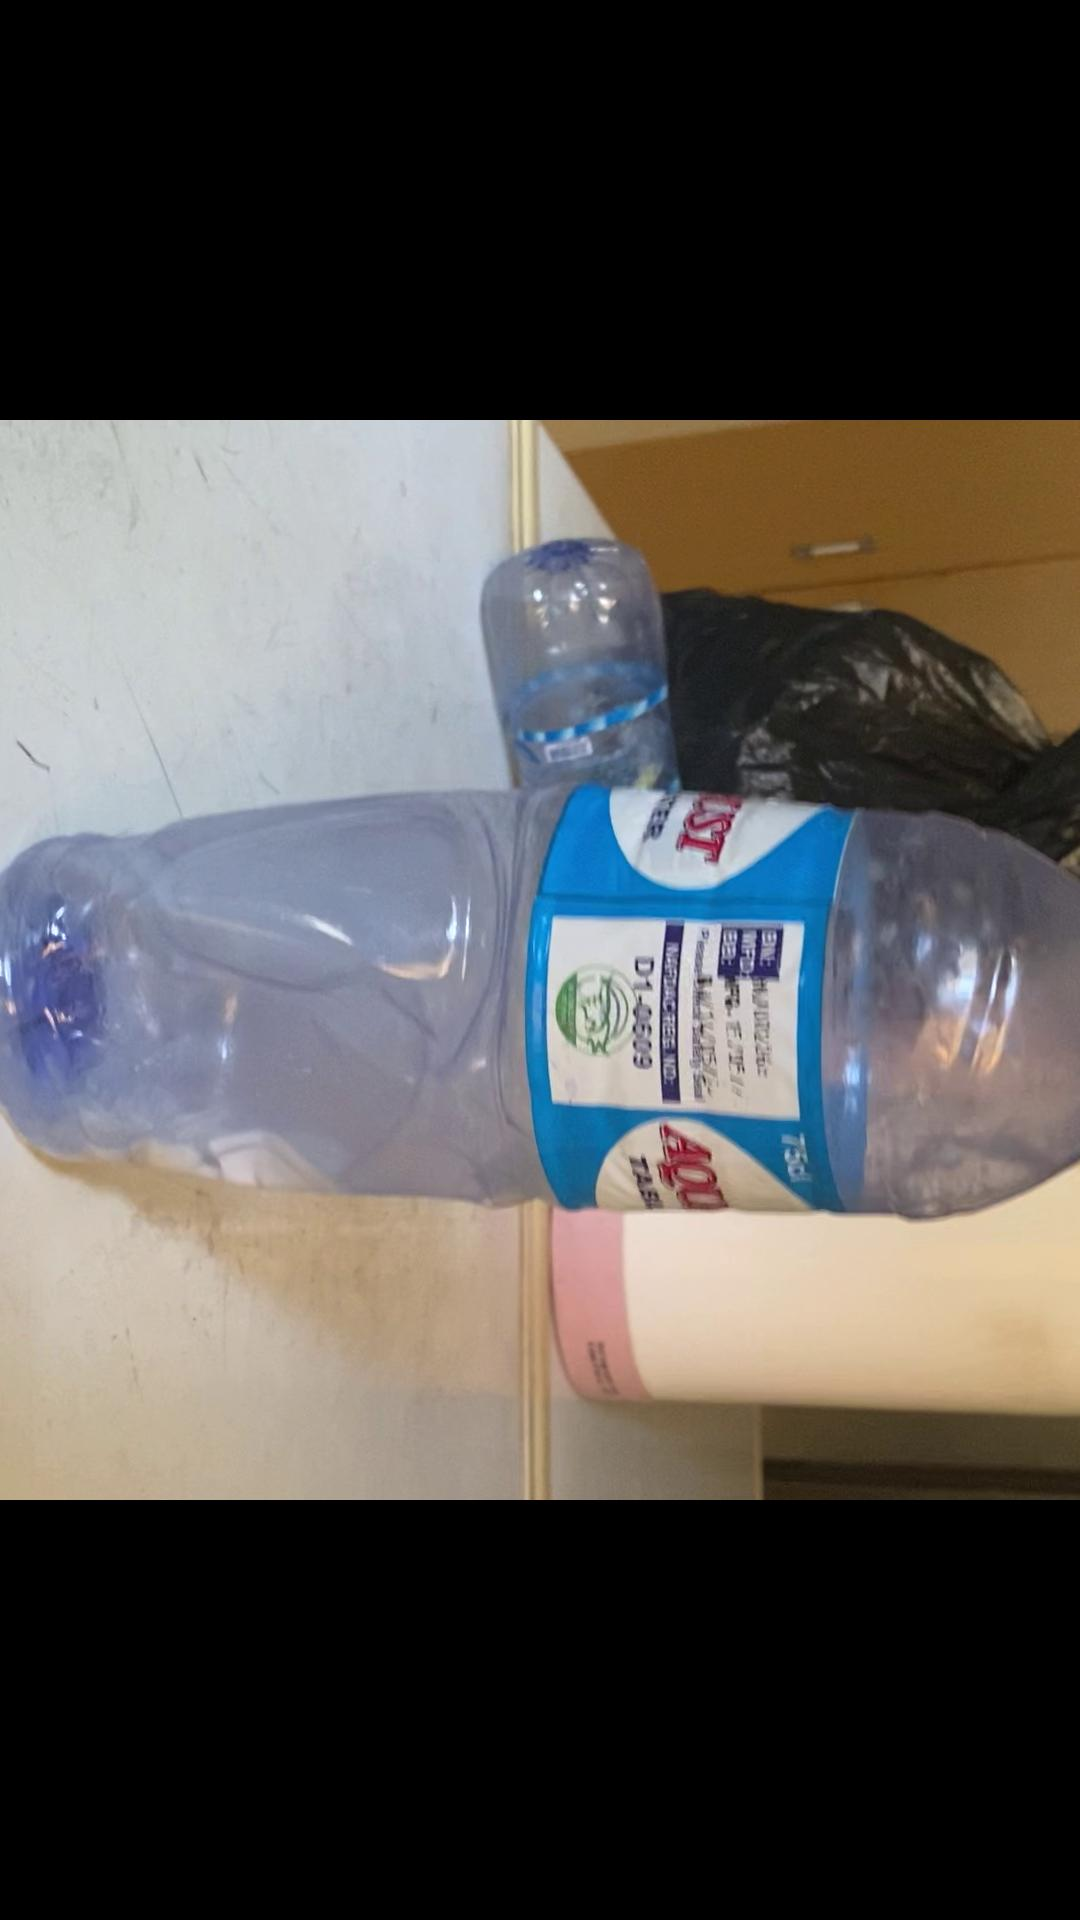crumbled: (0, 785, 1080, 1236)
label: (534, 800, 849, 1209)
